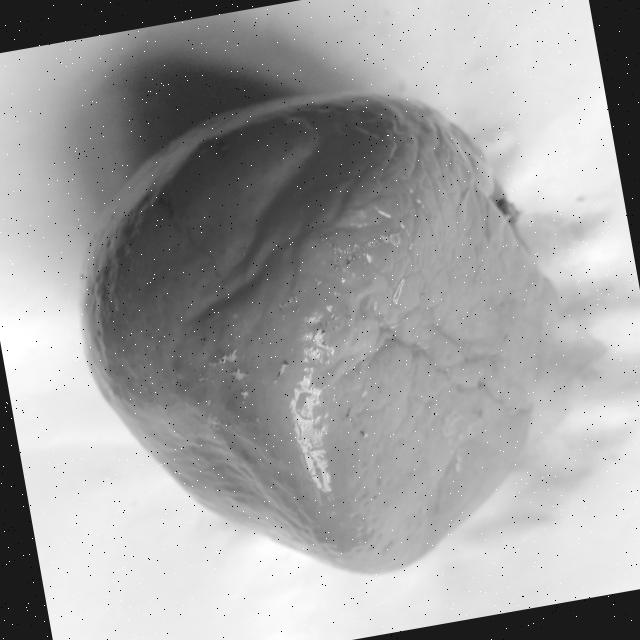Rotten: (45, 56, 599, 619)
